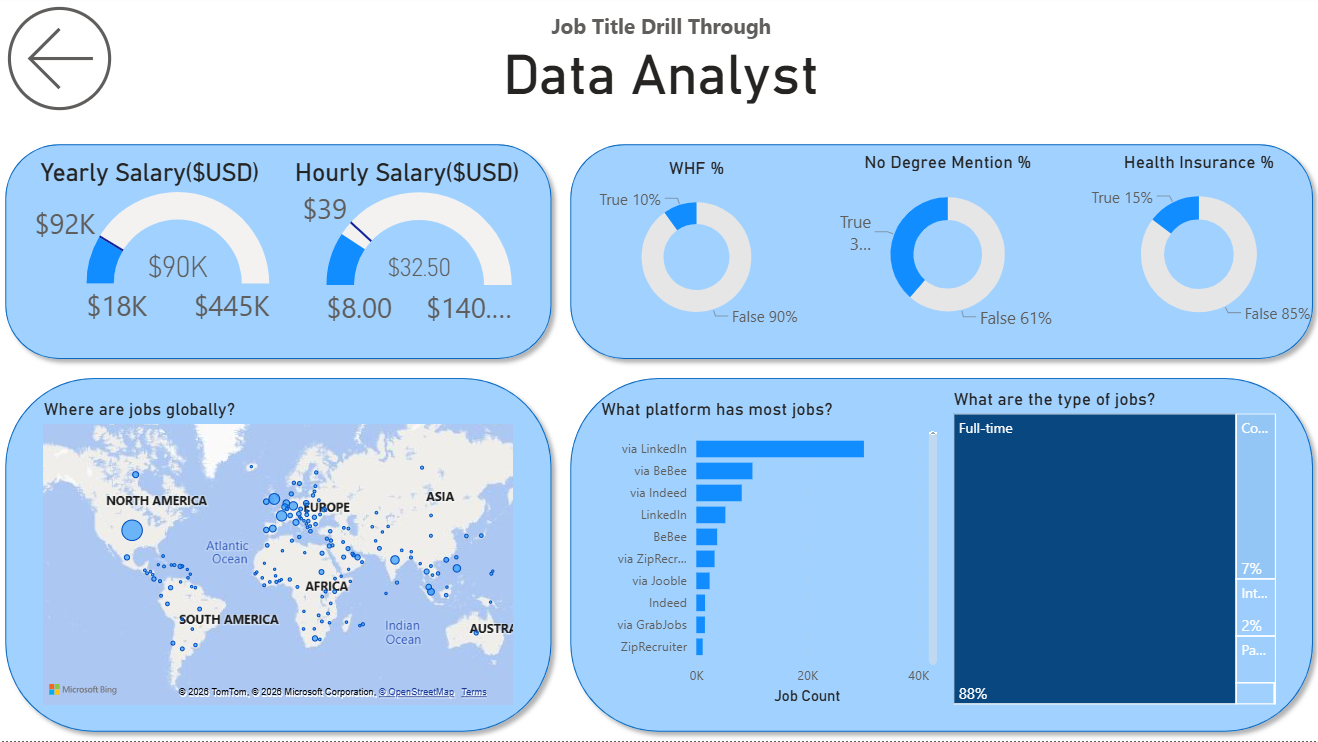

The page's visual inventory and layout, read from the dashboard file:
{"tool":"powerbi","page":{"name":"Job Title Drill Through","canvas":[1280,720],"ordinal":1},"visuals":[{"type":"group","id":"g1","title":"Background","box":[0,135.1,1280,584.4],"z":0},{"type":"cardVisual","fields":{"Data":["Min(job_postings_flat.job_title_short)"]},"box":[269.2,0,746.3,122.6],"z":1000},{"type":"actionButton","box":[0,0,161.9,122.6],"z":2000},{"type":"gauge","title":"Yearly Salary($USD)","fields":{"Y":["Median(job_postings_flat.salary_year_avg)"],"MinValue":["Min(job_postings_flat.salary_year_avg)"],"MaxValue":["Max(job_postings_flat.salary_year_avg)1"],"TargetValue":["Avg(job_postings_flat.salary_year_avg)2"]},"box":[26.8,157.1,242.4,173.4],"z":3000},{"type":"gauge","title":"Hourly Salary($USD)","fields":{"Y":["Median(job_postings_flat.salary_hour_avg)"],"MinValue":["Min(job_postings_flat.salary_hour_avg)"],"MaxValue":["Max(job_postings_flat.salary_hour_avg)"],"TargetValue":["Avg(job_postings_flat.salary_hour_avg)1"]},"box":[269.2,157.1,254.9,173.4],"z":4000},{"type":"donutChart","title":"WHF %","fields":{"Category":["job_postings_flat.job_work_from_home"],"Y":["CountNonNull(job_postings_flat.job_work_from_home)"]},"box":[567.2,157.1,218.4,173.4],"z":5000},{"type":"donutChart","title":"No Degree Mention %","fields":{"Y":["CountNonNull(job_postings_flat.job_work_from_home)"],"Category":["job_postings_flat.job_no_degree_mention"]},"box":[806.7,150.4,223.2,180.1],"z":6000},{"type":"donutChart","title":"Health Insurance %","fields":{"Y":["CountNonNull(job_postings_flat.job_work_from_home)"],"Category":["job_postings_flat.job_health_insurance"]},"box":[1042.4,150.4,237.6,180.1],"z":7000},{"type":"map","title":"Where are jobs globally?","fields":{"Category":["job_postings_flat.job_country"],"Size":["CountNonNull(job_postings_flat.job_title_short)"]},"box":[41.2,389.9,462.8,299.9],"z":8000},{"type":"treemap","title":"What are the type of jobs?","fields":{"Group":["job_postings_flat.job_schedule_type"],"Values":["CountNonNull(job_postings_flat.job_schedule_type)"]},"box":[918.8,380.4,321,309.5],"z":9000},{"type":"barChart","title":"What platform has most jobs?","fields":{"Category":["job_postings_flat.job_via"],"Y":["CountNonNull(job_postings_flat.job_title_short)"]},"box":[579.6,389.9,334.4,299.9],"z":10000},{"type":"shape","box":[0,135.1,545.1,225.1],"z":15125,"group":"g1"},{"type":"shape","box":[545.1,135.1,734.9,225.1],"z":15250,"group":"g1"},{"type":"shape","box":[545.1,360.2,734.9,359.3],"z":15312,"group":"g1"},{"type":"shape","box":[0,360.2,545.1,359.3],"z":15375,"group":"g1"}]}

Visuals, with their boxes in screenshot pixels (x1, y1, x2, y2), scaled from the page's 1280x720 canvas onto the 1318x742 screenshot:
"Background" group: left=0, top=139, right=1317, bottom=741
cardVisual - Min(job_postings_flat.job_title_short): left=277, top=0, right=1046, bottom=126
actionButton: left=0, top=0, right=167, bottom=126
"Yearly Salary($USD)" gauge: left=28, top=162, right=277, bottom=341
"Hourly Salary($USD)" gauge: left=277, top=162, right=540, bottom=341
"WHF %" donutChart: left=584, top=162, right=809, bottom=341
"No Degree Mention %" donutChart: left=831, top=155, right=1060, bottom=341
"Health Insurance %" donutChart: left=1073, top=155, right=1317, bottom=341
"Where are jobs globally?" map: left=42, top=402, right=519, bottom=711
"What are the type of jobs?" treemap: left=946, top=392, right=1277, bottom=711
"What platform has most jobs?" barChart: left=597, top=402, right=941, bottom=711
shape: left=0, top=139, right=561, bottom=371
shape: left=561, top=139, right=1317, bottom=371
shape: left=561, top=371, right=1317, bottom=741
shape: left=0, top=371, right=561, bottom=741
